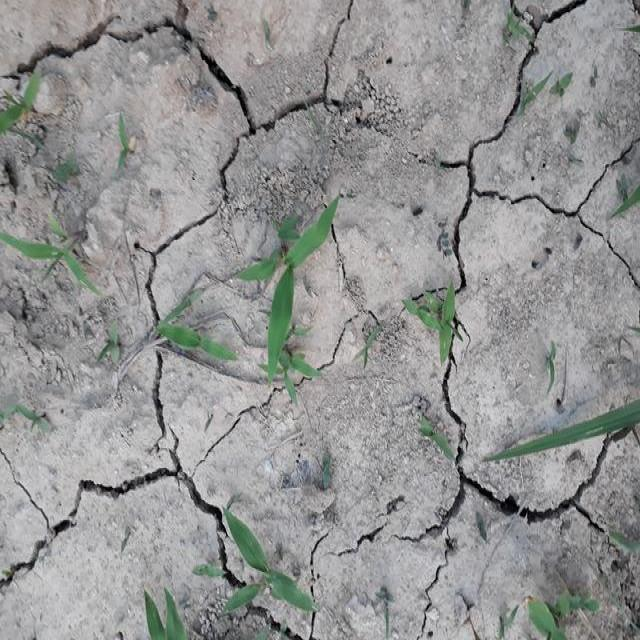weed: (238, 207, 341, 374), (212, 489, 323, 639), (404, 276, 464, 366)
